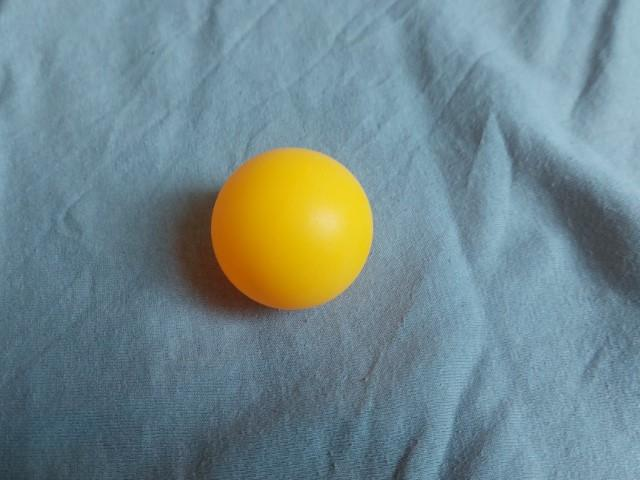oball: (196, 137, 386, 324)
